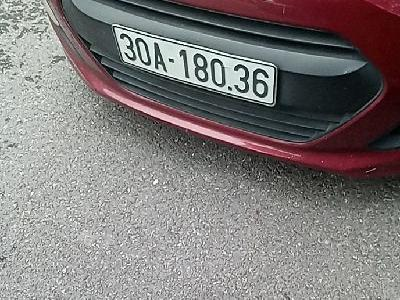lisence: (110, 21, 278, 109)
